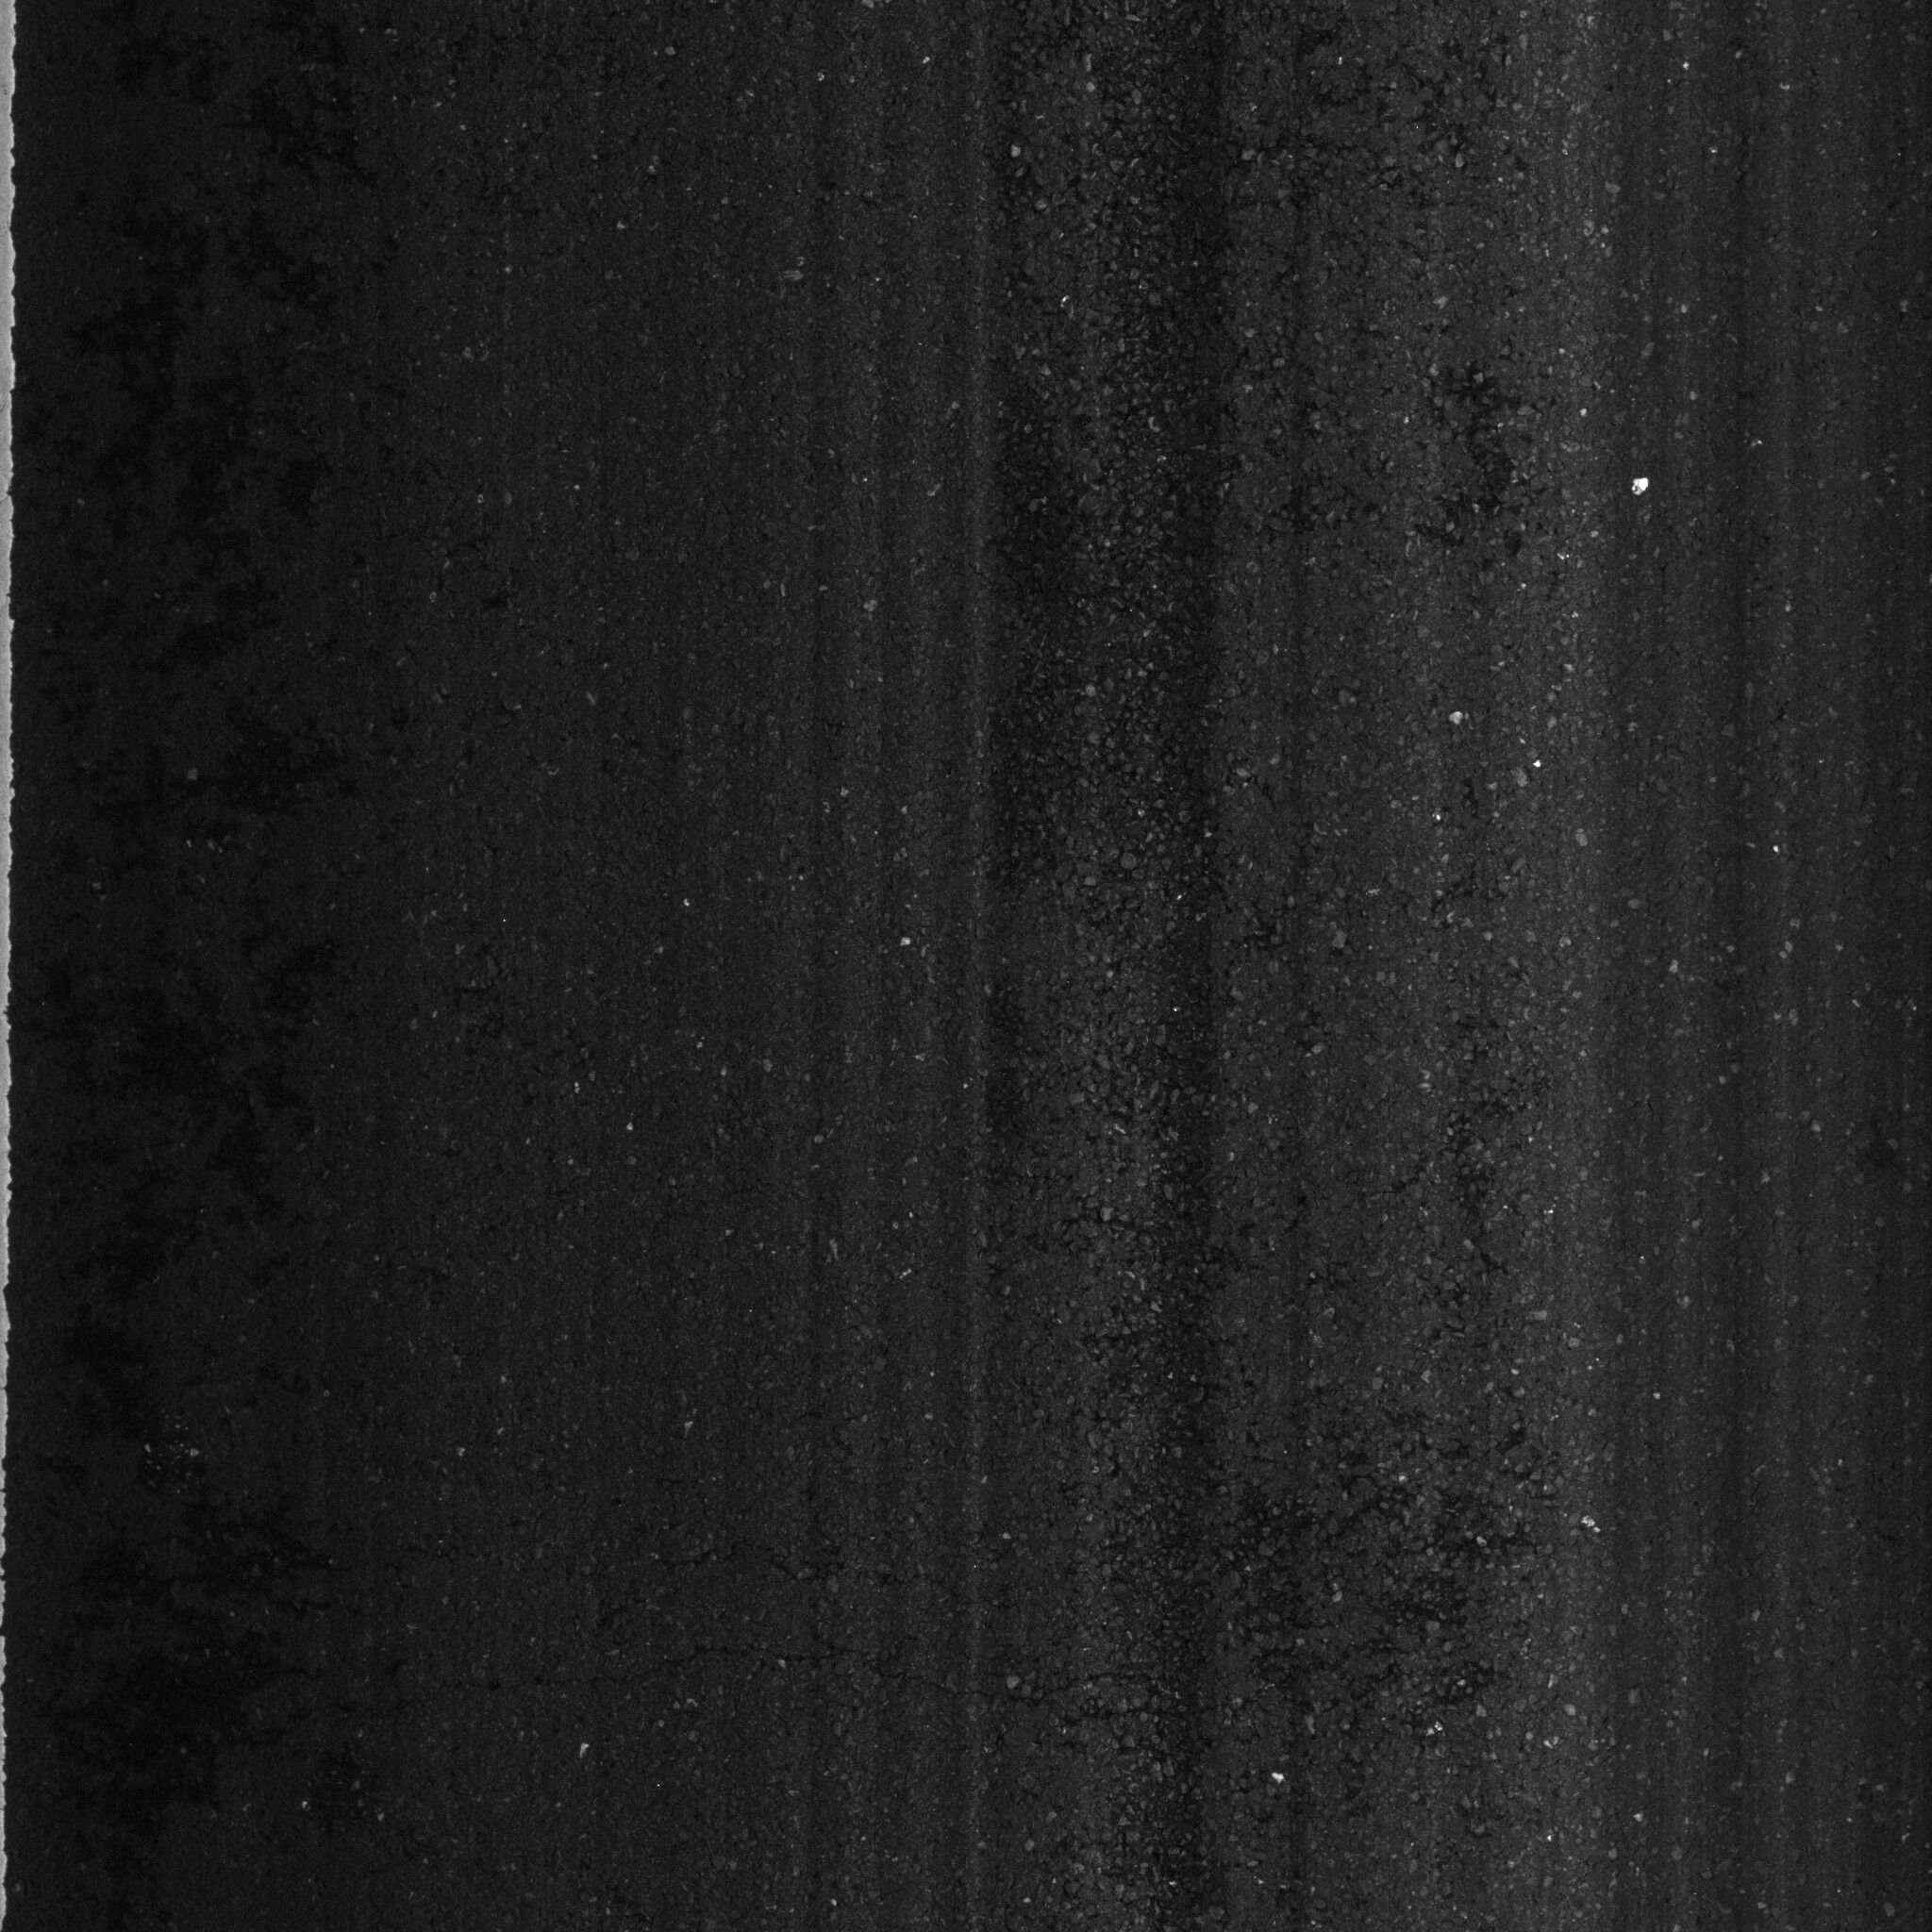transeverse: (239, 1624, 1518, 1755)
